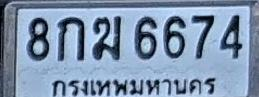4: (220, 14, 242, 59)
6: (134, 16, 156, 60), (164, 15, 186, 58)
7: (192, 14, 214, 59)
8: (27, 17, 49, 61)
A01: (58, 16, 84, 61)
A06: (92, 15, 122, 60)
BKK: (51, 75, 217, 97)
